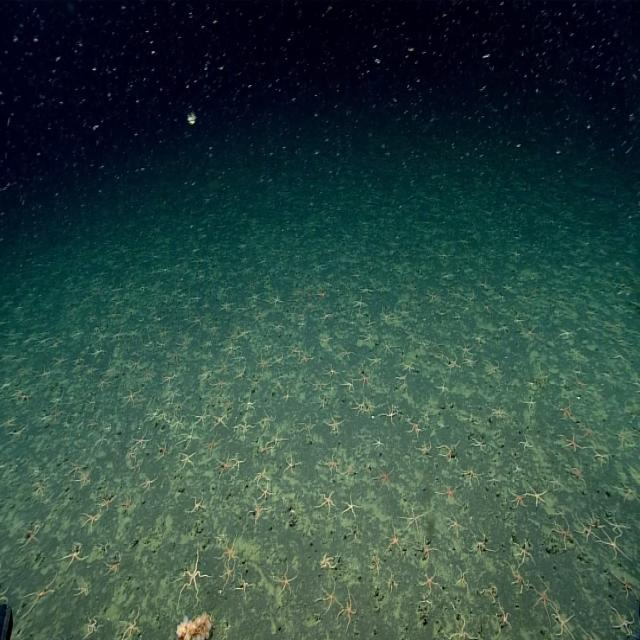brittle-stars: (175, 543, 206, 603), (22, 576, 57, 616), (598, 525, 626, 559), (550, 604, 577, 638), (338, 588, 358, 630), (273, 562, 298, 595), (530, 581, 552, 618), (549, 518, 575, 549), (119, 606, 142, 638), (60, 542, 85, 571), (603, 507, 627, 537), (505, 563, 528, 594), (316, 580, 339, 610), (402, 505, 425, 535), (611, 606, 635, 634), (615, 570, 639, 597), (219, 532, 240, 562), (614, 478, 640, 502), (383, 528, 404, 556), (342, 489, 360, 521), (470, 530, 490, 558), (526, 482, 548, 507), (562, 429, 584, 454), (437, 440, 459, 465), (494, 601, 514, 628), (568, 459, 588, 486), (512, 541, 532, 567), (576, 516, 595, 543), (221, 560, 238, 590), (461, 465, 482, 488), (445, 513, 465, 537), (317, 491, 337, 515), (418, 570, 439, 592), (374, 465, 394, 488), (180, 423, 198, 448), (417, 538, 437, 560), (247, 499, 267, 521), (437, 482, 457, 503), (308, 374, 329, 394), (82, 509, 101, 531), (320, 550, 339, 572), (299, 414, 318, 436), (256, 482, 276, 502), (170, 411, 186, 436), (105, 555, 123, 577), (284, 453, 301, 476), (324, 452, 339, 478), (84, 614, 100, 638), (211, 411, 230, 430), (510, 489, 528, 509), (338, 344, 356, 364), (258, 409, 276, 429), (405, 416, 422, 437), (380, 404, 397, 425), (236, 418, 253, 439), (326, 412, 342, 434), (470, 433, 488, 452), (341, 459, 357, 480), (434, 375, 450, 396), (237, 574, 252, 596), (133, 429, 152, 446), (179, 450, 196, 469), (122, 387, 138, 407), (358, 366, 372, 388), (231, 450, 245, 472), (99, 492, 116, 510), (141, 474, 158, 492), (317, 331, 334, 349), (192, 492, 207, 512), (242, 391, 257, 411), (415, 439, 432, 456), (204, 434, 221, 451), (48, 407, 64, 425), (352, 294, 368, 312), (357, 330, 375, 346), (254, 467, 269, 486), (194, 406, 208, 426), (238, 322, 252, 342), (490, 404, 507, 420), (213, 374, 228, 392), (548, 472, 562, 491), (217, 451, 231, 470), (78, 469, 91, 489), (224, 342, 240, 358), (459, 339, 474, 356), (68, 461, 82, 479), (120, 494, 133, 513), (272, 429, 285, 448), (444, 355, 460, 370), (342, 378, 356, 395), (368, 350, 382, 367), (462, 352, 476, 369), (353, 397, 366, 413), (359, 280, 372, 296), (261, 440, 274, 456), (158, 442, 169, 460), (401, 361, 415, 375), (126, 446, 138, 462), (525, 396, 537, 412), (373, 434, 385, 450), (300, 350, 311, 365), (158, 408, 168, 423)
